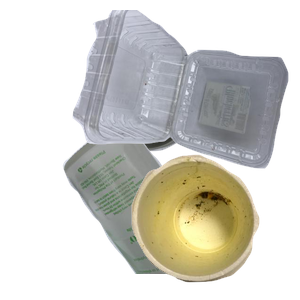glass: (60, 120, 300, 300)
metal: (89, 48, 276, 192)
plastic: (70, 10, 300, 171)
trash: (129, 152, 300, 300)
